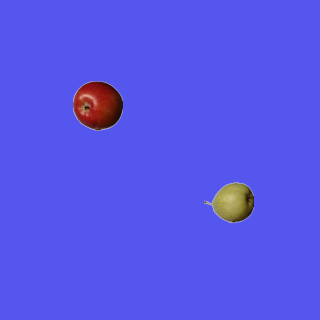Apple Braeburn: (72, 80, 122, 130)
Pear: (203, 177, 253, 227)
